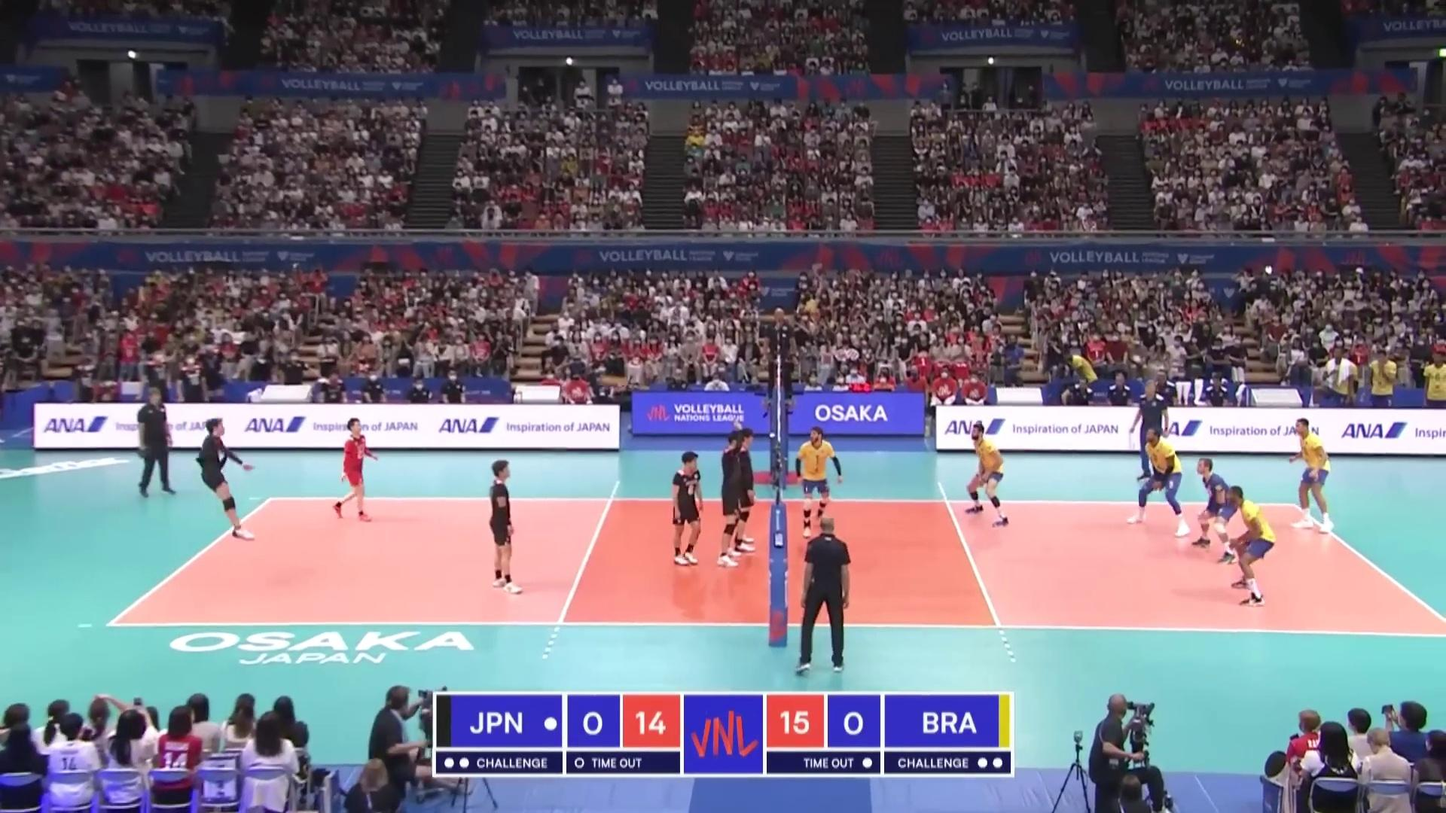player: (1127, 430, 1193, 538), (195, 417, 250, 538), (1221, 488, 1277, 604), (1288, 418, 1335, 534), (794, 427, 840, 539), (1193, 457, 1242, 561), (332, 420, 378, 520), (964, 427, 1010, 526), (487, 458, 520, 592), (668, 451, 704, 566), (719, 429, 744, 564), (733, 428, 758, 555)
refree: (795, 517, 851, 673), (763, 306, 799, 415)
